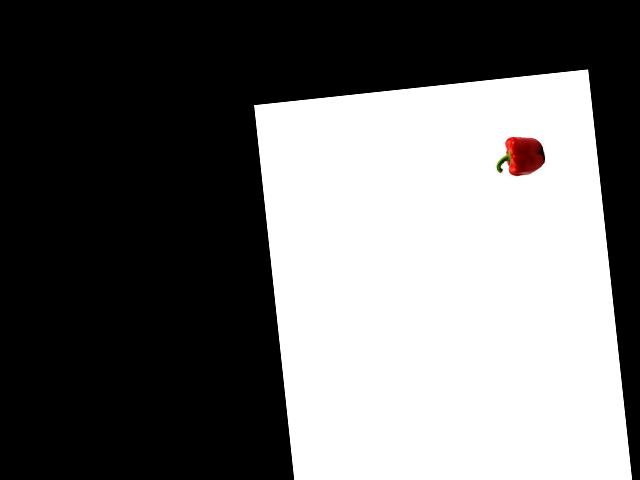bell_pepper: (492, 131, 548, 181)
